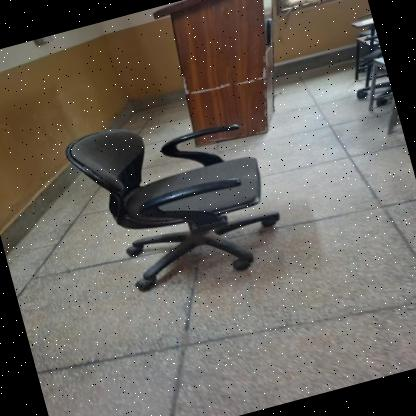chair: (55, 82, 304, 314)
